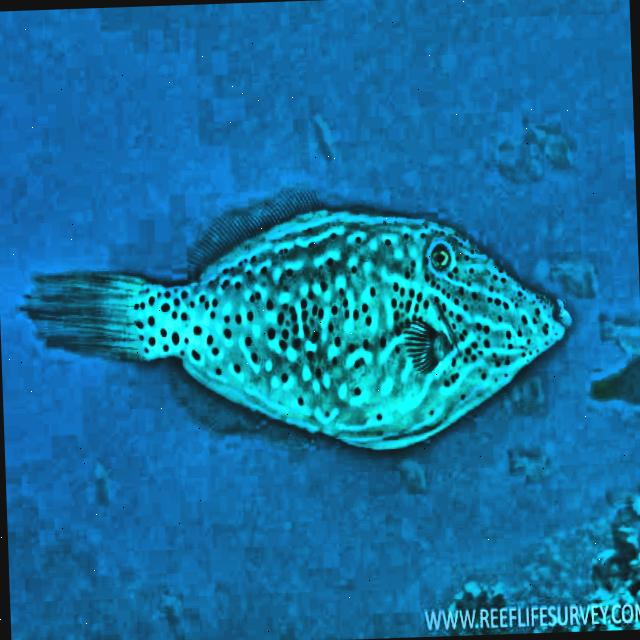fish: (16, 185, 575, 460)
